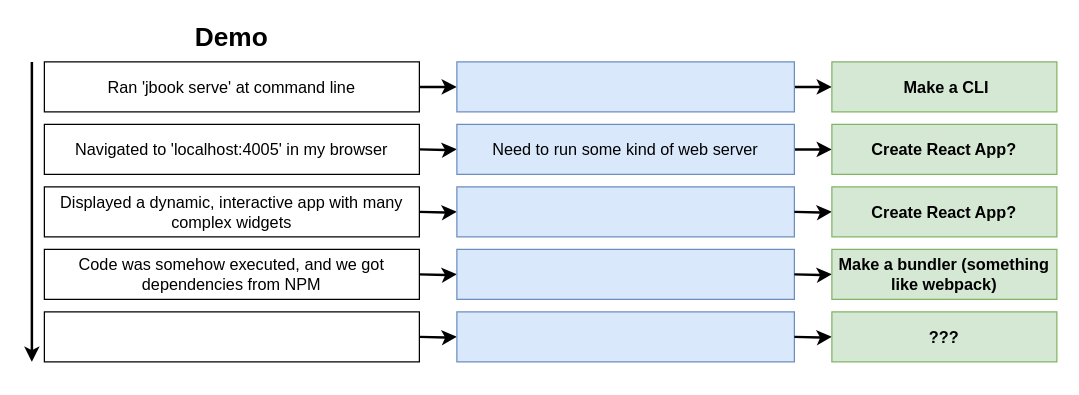
Image size: 1079x395. Some labels were removed from this diagram. The centre of each missing label's shape, as x and y in pixels:
"Changes were persisted to hard drive" belongs at pixel 231 336.
"Need some kind of command line program" belongs at pixel 625 86.
"Need some way to interact with NPM" belongs at pixel 625 273.
"Need some way to write files to disk automatically" belongs at pixel 625 336.
"Need to make a complex web frontend (React?)" belongs at pixel 625 211.
